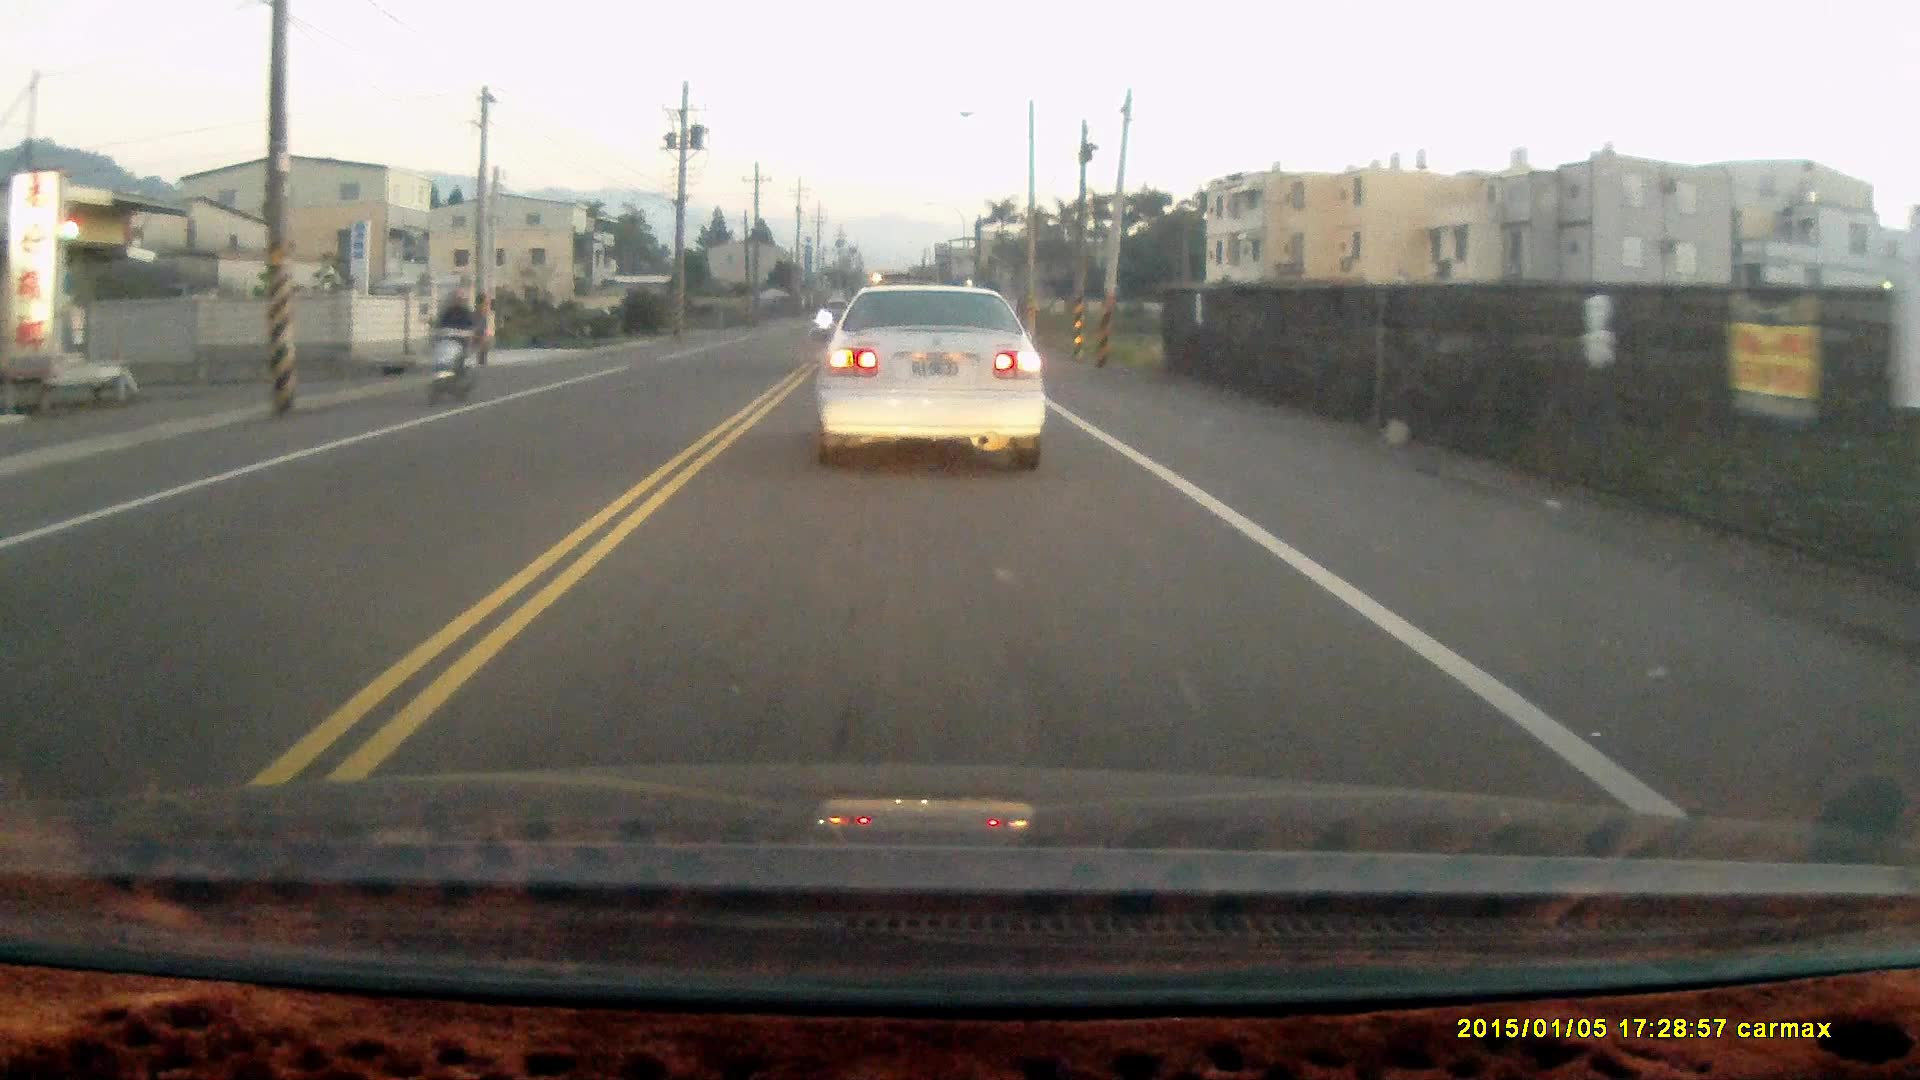rider: (419, 284, 481, 411)
vehicle: (809, 280, 1046, 471)
